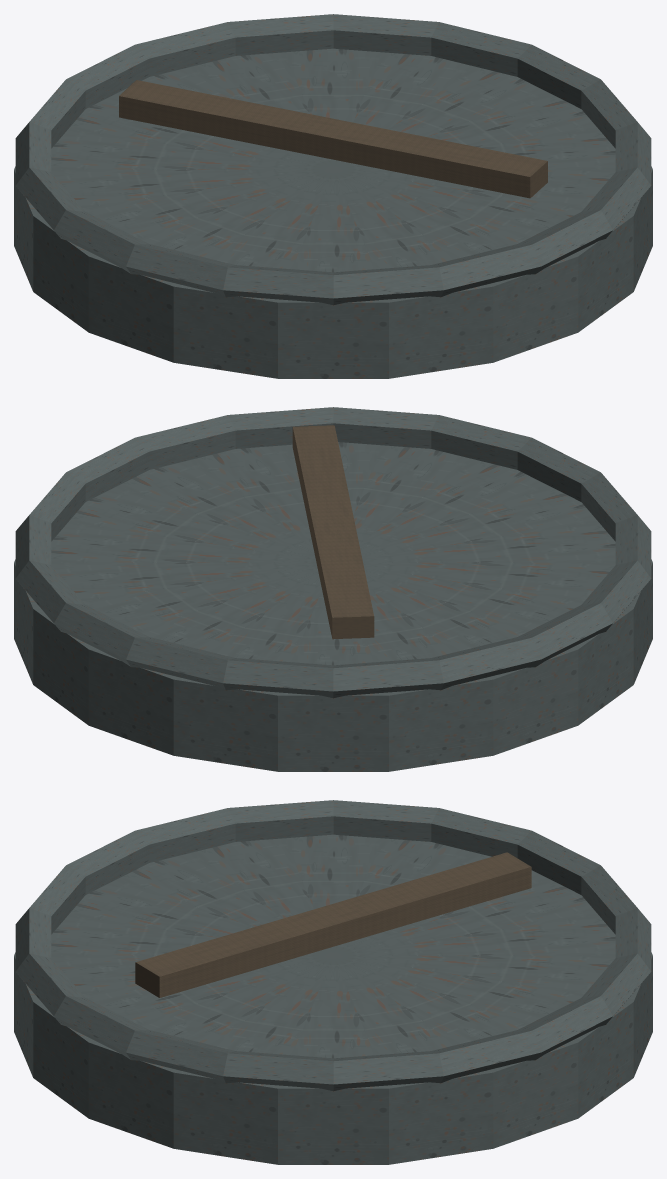
Rendered from ax-tool-006_compass__clean.obj.
3 renders of one model, top to bottom at view 1: azimuth 30°, elevation 25°; view 2: azimuth 150°, elevation 25°; view 3: azimuth 270°, elevation 25°, orthographic.
Visible parts, largest first — view 1: ax-tool-006_compass__clean; view 2: ax-tool-006_compass__clean; view 3: ax-tool-006_compass__clean.
Part boxes in pixels (<box>): ax-tool-006_compass__clean: <box>14,14,652,378</box>; ax-tool-006_compass__clean: <box>14,407,652,771</box>; ax-tool-006_compass__clean: <box>14,800,652,1164</box>.
Bounding box in the file's own units: 0.384 × 0.077 × 0.38.
2 materials, 2 textured.
